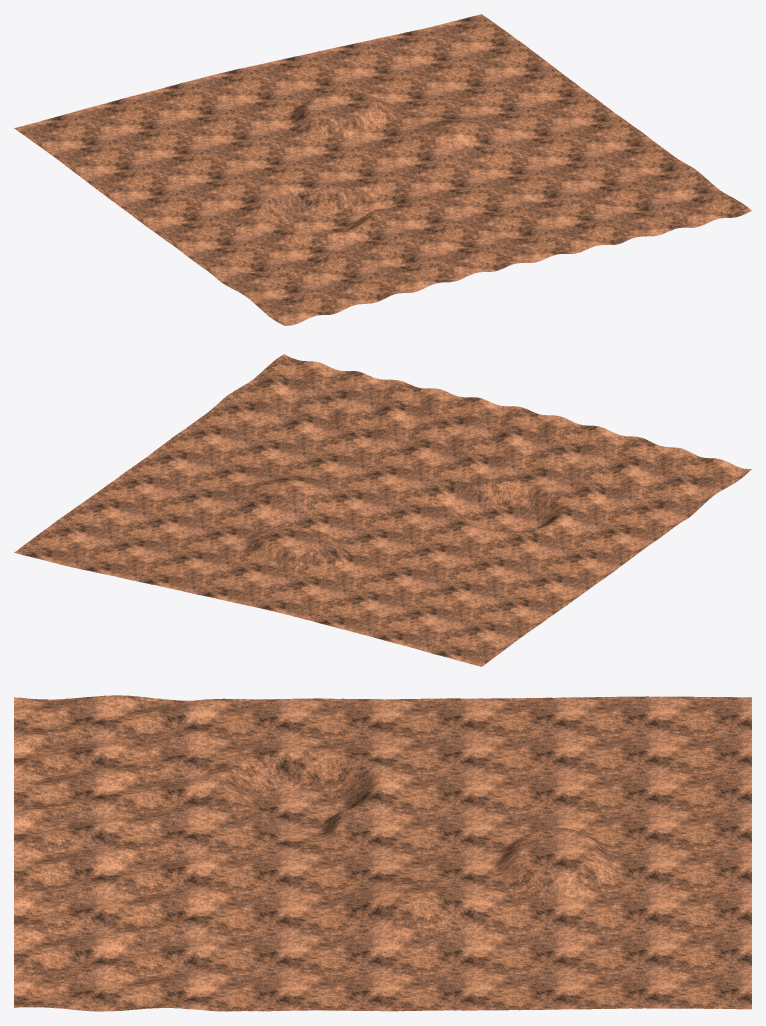
File: terrain.dae
3 views of the same model, one above another, from view 1: azimuth 30°, elevation 25°; view 2: azimuth 150°, elevation 25°; view 3: azimuth 270°, elevation 25° (orthographic). The views are drawn at different scales.
Parts seen in each view (by area): view 1: terrain-node; view 2: terrain-node; view 3: terrain-node.
Part boxes in pixels (x1=…): terrain-node: x1=14, y1=14, x2=751, y2=325; terrain-node: x1=14, y1=354, x2=751, y2=666; terrain-node: x1=14, y1=695, x2=751, y2=1011.
Bounding box in the file's own units: 64 × 64 × 3.16.
Materials: 1 (1 with a texture image).
